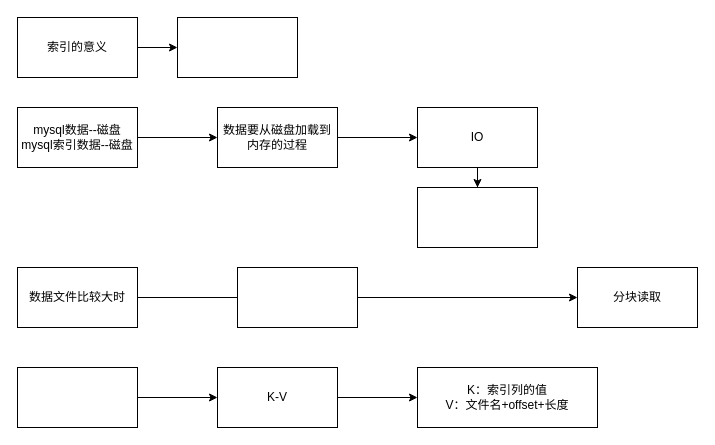
The diagram is 715 pixels wide and 445 high, and some of its shapes have lost their labels. The centre of each missing label's shape, as x and y in pixels:
"减少IO量 减少IO次数" goes at point (477, 217).
"分而治之" goes at point (297, 297).
"提高查询效率 加快数据访问" goes at point (237, 47).
"数据格式" goes at point (77, 397).
